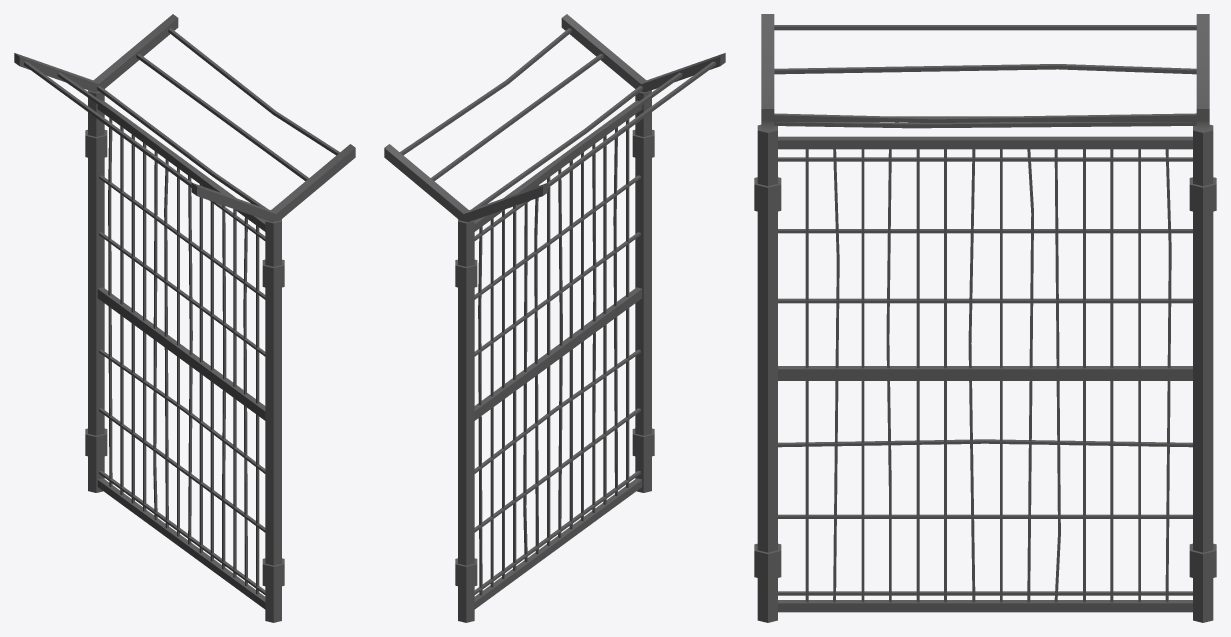
File: SM_Prop_Fence_01.fbx
The picture shows the model from 3 angles, left to right: view 1: azimuth 30°, elevation 25°; view 2: azimuth 150°, elevation 25°; view 3: azimuth 270°, elevation 25°; orthographic projection. The views are drawn at different scales.
Visible parts, largest first — view 1: SM_Prop_Fence_01; view 2: SM_Prop_Fence_01; view 3: SM_Prop_Fence_01.
Part boxes in pixels (left/top/right/bottom): SM_Prop_Fence_01: left=14, top=14, right=355, bottom=622; SM_Prop_Fence_01: left=384, top=14, right=725, bottom=622; SM_Prop_Fence_01: left=754, top=14, right=1216, bottom=622.
Size of the model in its own units: 103 by 282 by 212.
